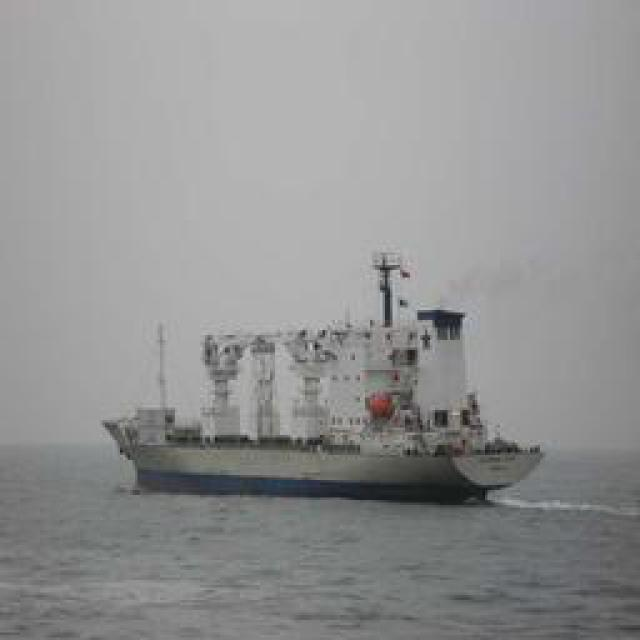Ship: (105, 265, 550, 495)
